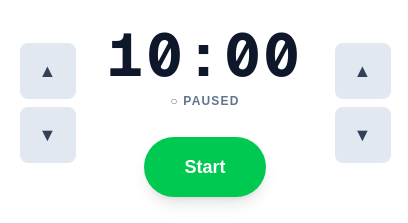
Test: ScoreboardTimerContainer - User Story Integration Tests › US1: Adjust Minutes Up (P1) › should increment minutes by 1 when timer is paused
Expected: the message reads "10:00", [108,16,302,94]
Click the button named "Increment" at (48, 71), box [20,43,76,99]
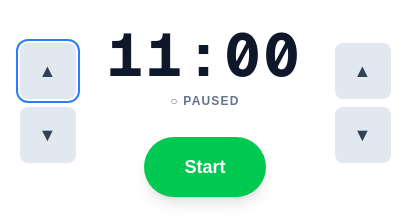
Result: the message reads "11:00" at [108,16,302,94]
